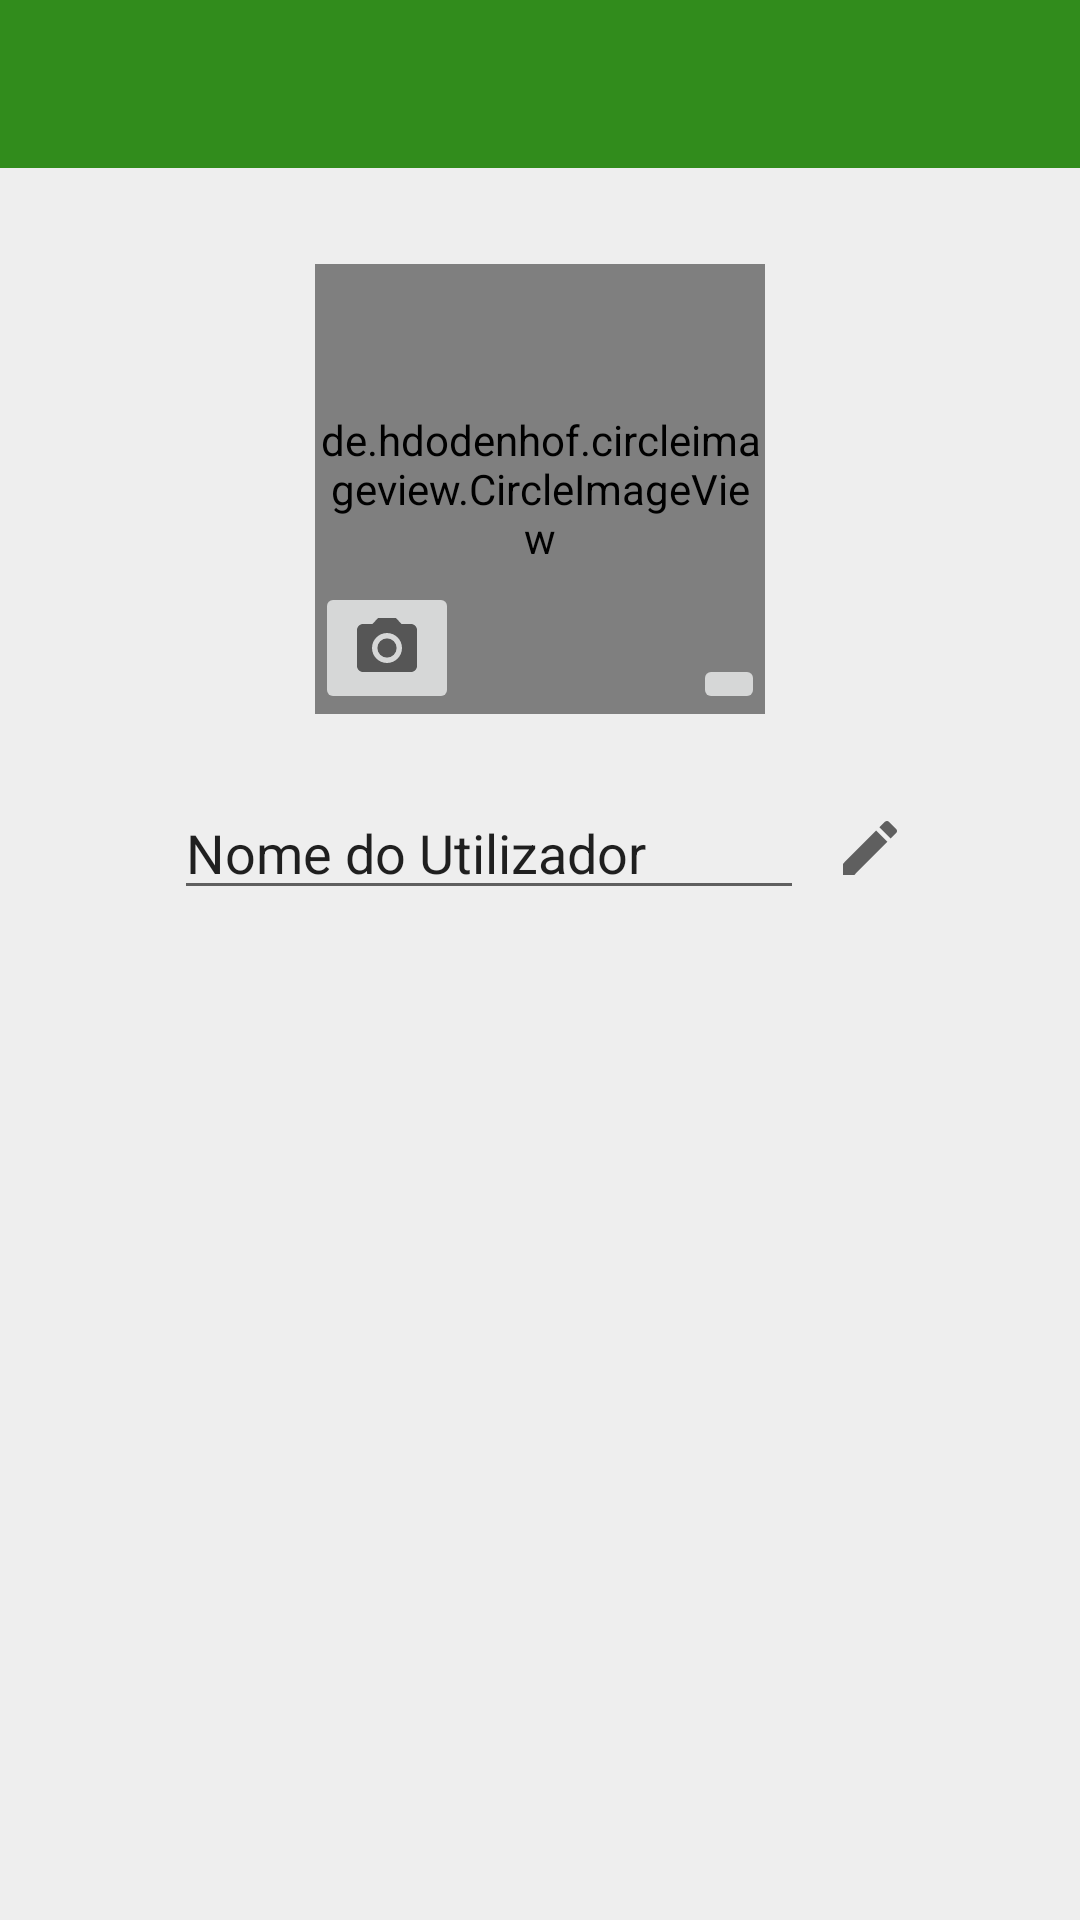

Icon bounding boxes for this 1080×1920 phone screenshot, format (left=x1, top=y1, right=x2, bottom=y2):
camera: (left=327, top=600, right=447, bottom=696)
edit verde: (left=843, top=821, right=897, bottom=875)
